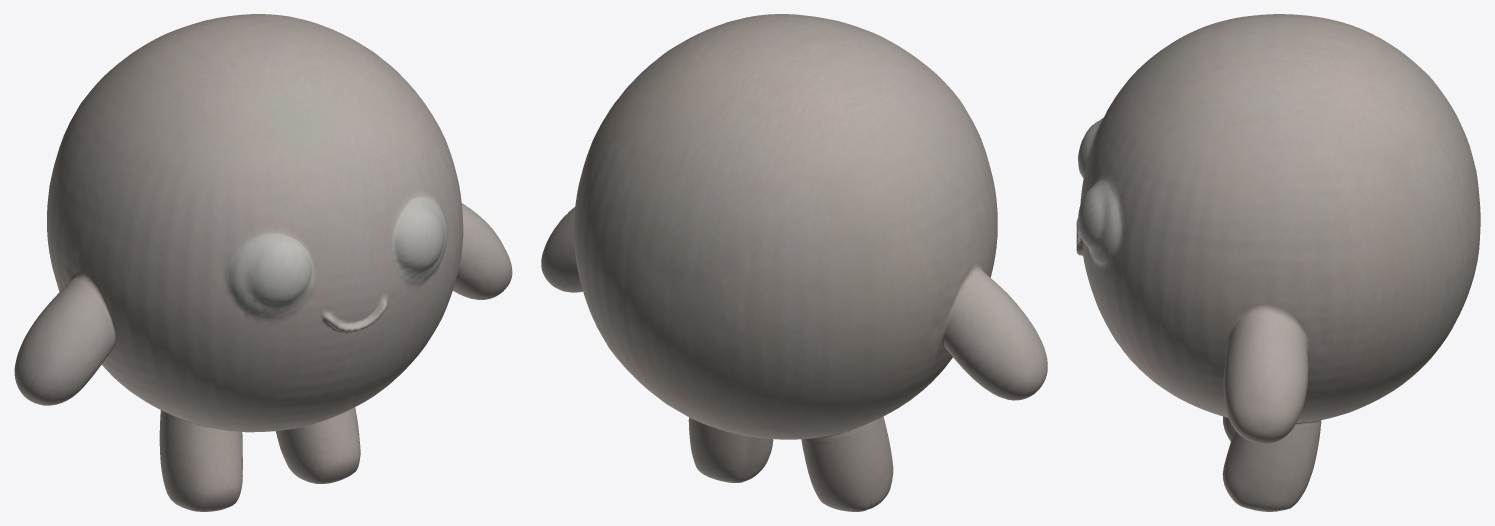
The model's file is MonsterEnemy_GLB.glb.
3 renders of one model, left to right at view 1: azimuth 30°, elevation 25°; view 2: azimuth 150°, elevation 25°; view 3: azimuth 270°, elevation 25°, orthographic. The views are drawn at different scales.
Parts seen in each view (by area): view 1: texture_mapping; view 2: texture_mapping; view 3: texture_mapping.
Boxes of the visible parts, x1,y1,x2,y2 form: texture_mapping: (14,14,512,511); texture_mapping: (541,14,1047,511); texture_mapping: (1076,14,1480,511).
Size of the model in its own units: 0.9995 by 0.8881 by 0.7335.
1 material, 1 textured.
